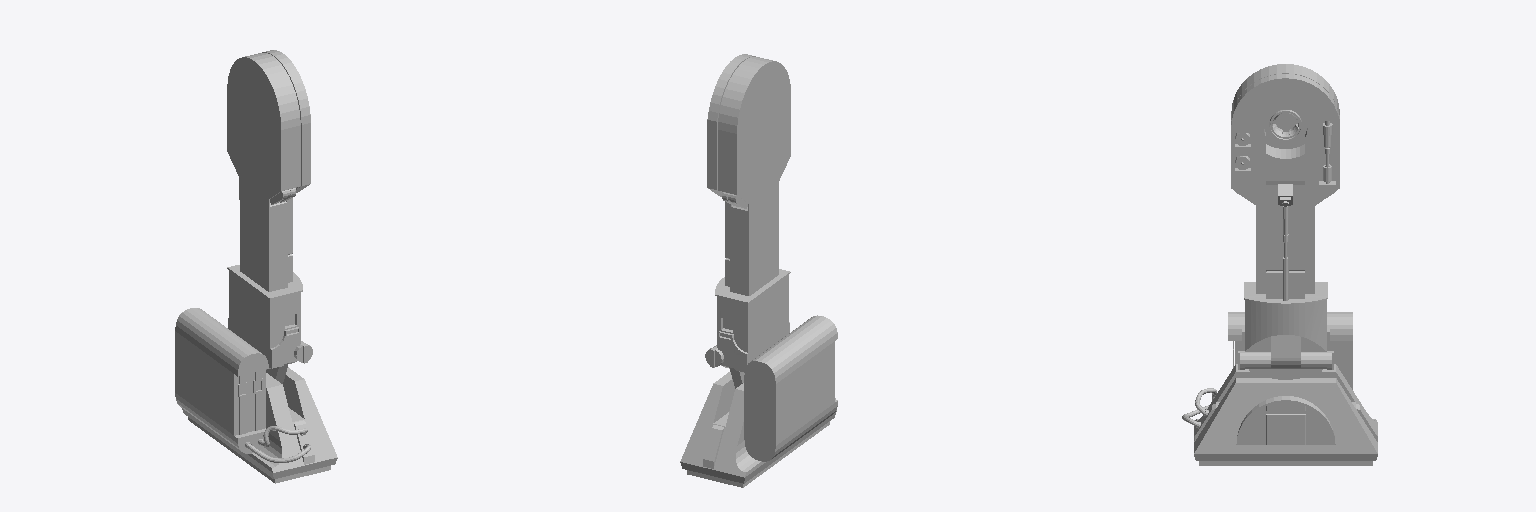
Rendered from pata derecha 2.obj.
3 views of the same model, side by side, from view 1: azimuth 30°, elevation 25°; view 2: azimuth 150°, elevation 25°; view 3: azimuth 270°, elevation 25° (orthographic).
Visible parts, largest first — view 1: _D2_R2_Left_Upper_Leg; view 2: _D2_R2_Left_Upper_Leg; view 3: _D2_R2_Left_Upper_Leg.
Part boxes in pixels (x1,y1,x2,y2): _D2_R2_Left_Upper_Leg: (175, 50, 337, 483); _D2_R2_Left_Upper_Leg: (680, 54, 837, 487); _D2_R2_Left_Upper_Leg: (1182, 64, 1377, 465).
Size of the model in its own units: 1.9 by 7.9 by 3.65.